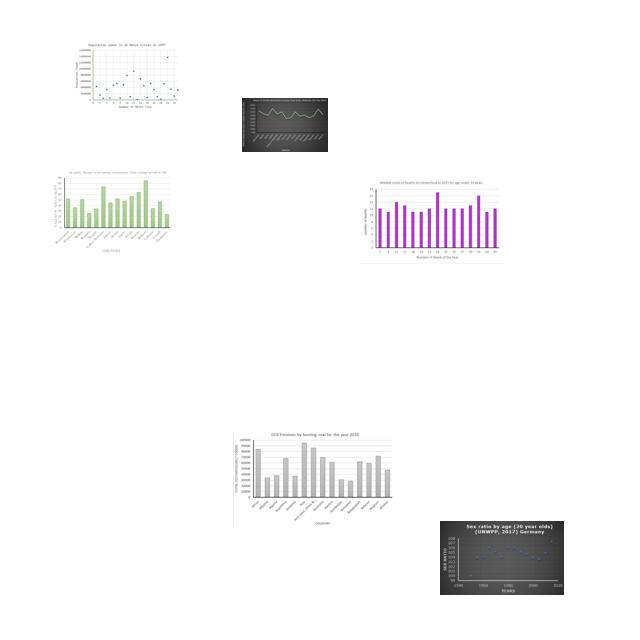Graph: (233, 431, 394, 526), (360, 178, 503, 264), (51, 170, 173, 253), (440, 521, 564, 595), (74, 43, 182, 111), (242, 98, 328, 152)
